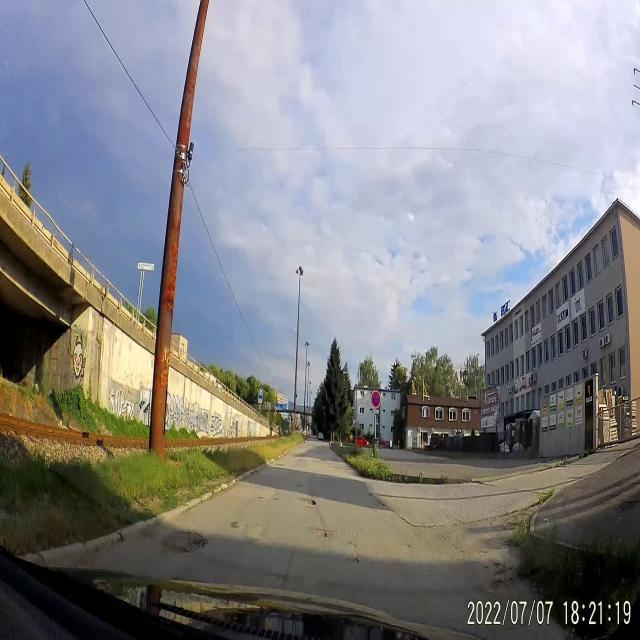Pothole: (164, 524, 212, 558), (300, 524, 340, 544), (342, 526, 360, 564), (297, 493, 318, 512)
